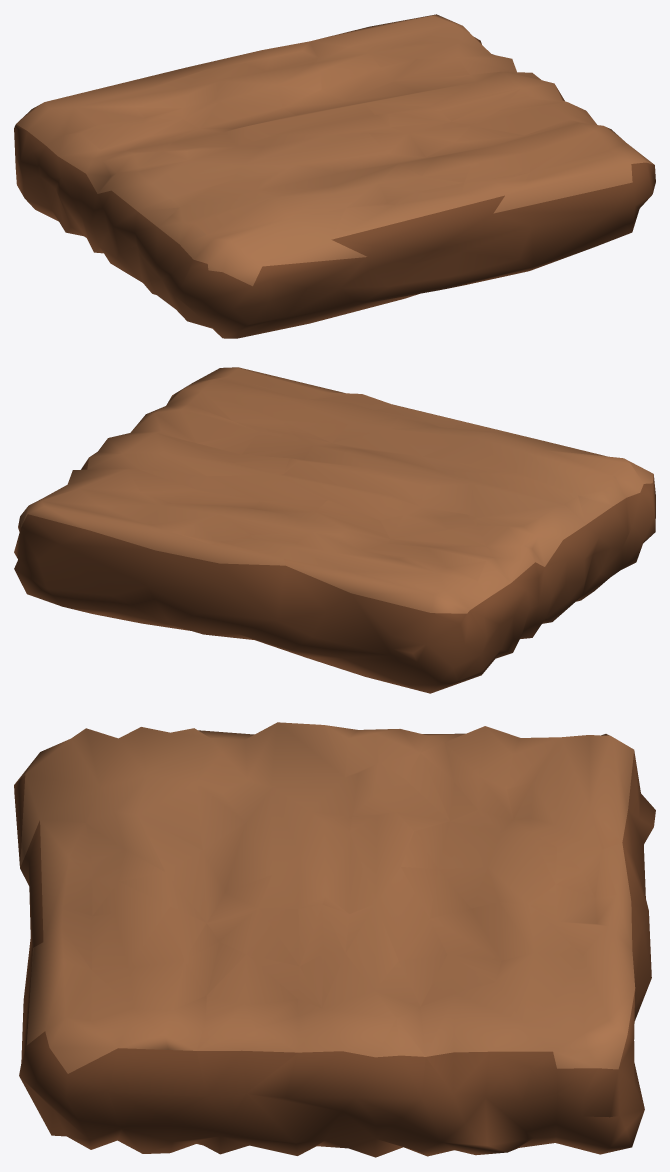
File: canopy_bark_ledge_lod1.glb
3 views of the same model, one above another, from view 1: azimuth 30°, elevation 25°; view 2: azimuth 150°, elevation 25°; view 3: azimuth 270°, elevation 25° (orthographic). The views are drawn at different scales.
Visible parts, largest first — view 1: canopy_bark_ledge.001; view 2: canopy_bark_ledge.001; view 3: canopy_bark_ledge.001.
Boxes of the visible parts, x1,y1,x2,y2 form: canopy_bark_ledge.001: (14, 14, 655, 338); canopy_bark_ledge.001: (14, 367, 655, 693); canopy_bark_ledge.001: (14, 722, 655, 1157).
Size of the model in its own units: 3.51 by 0.8484 by 2.9.
